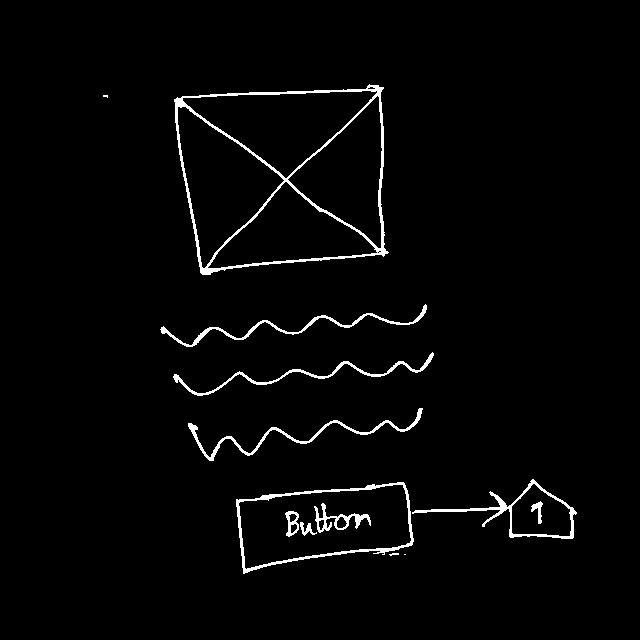button: (226, 483, 420, 567)
image: (171, 86, 392, 272)
linker: (416, 480, 582, 552)
paragraph: (153, 310, 461, 460)
